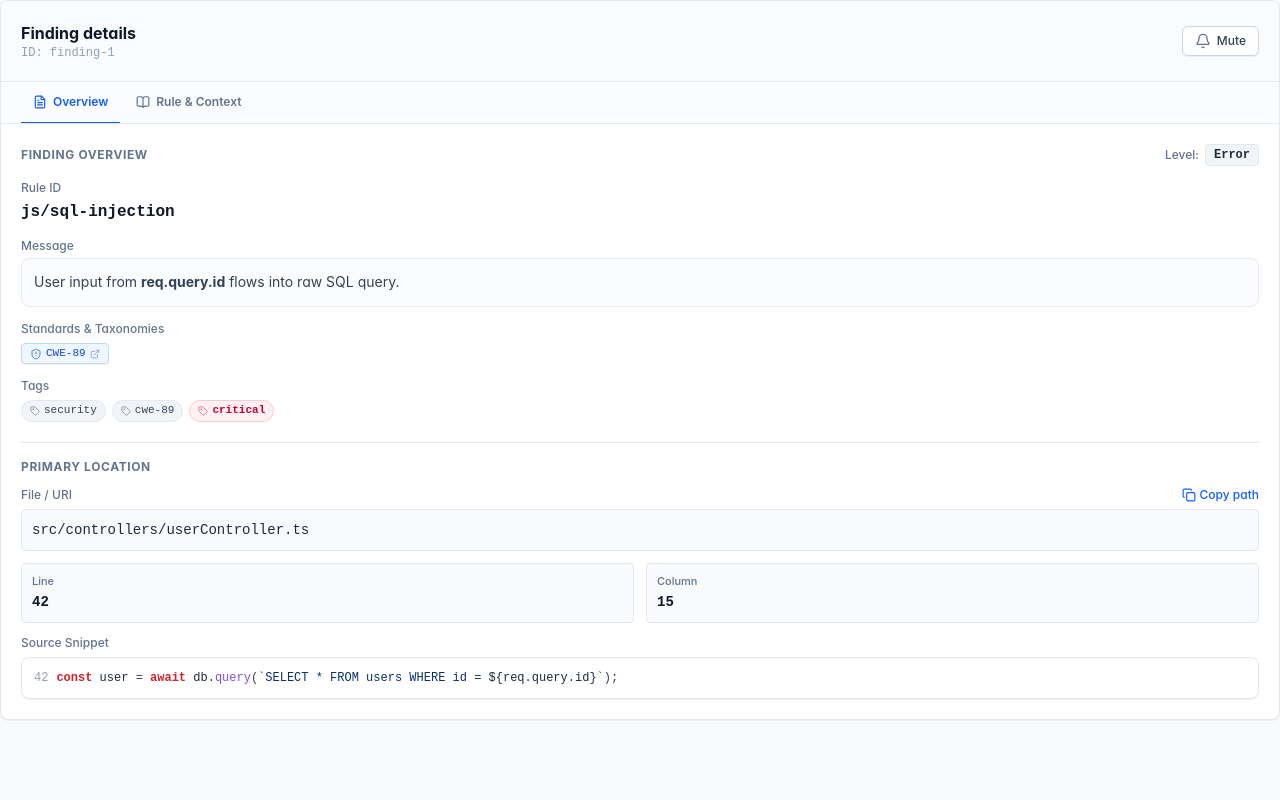
it: DetailsPanel Component › switches to Rule & Context tab on click
Click the button "Rule & Context". click: (189,103)
box: 124,82 -> 253,124
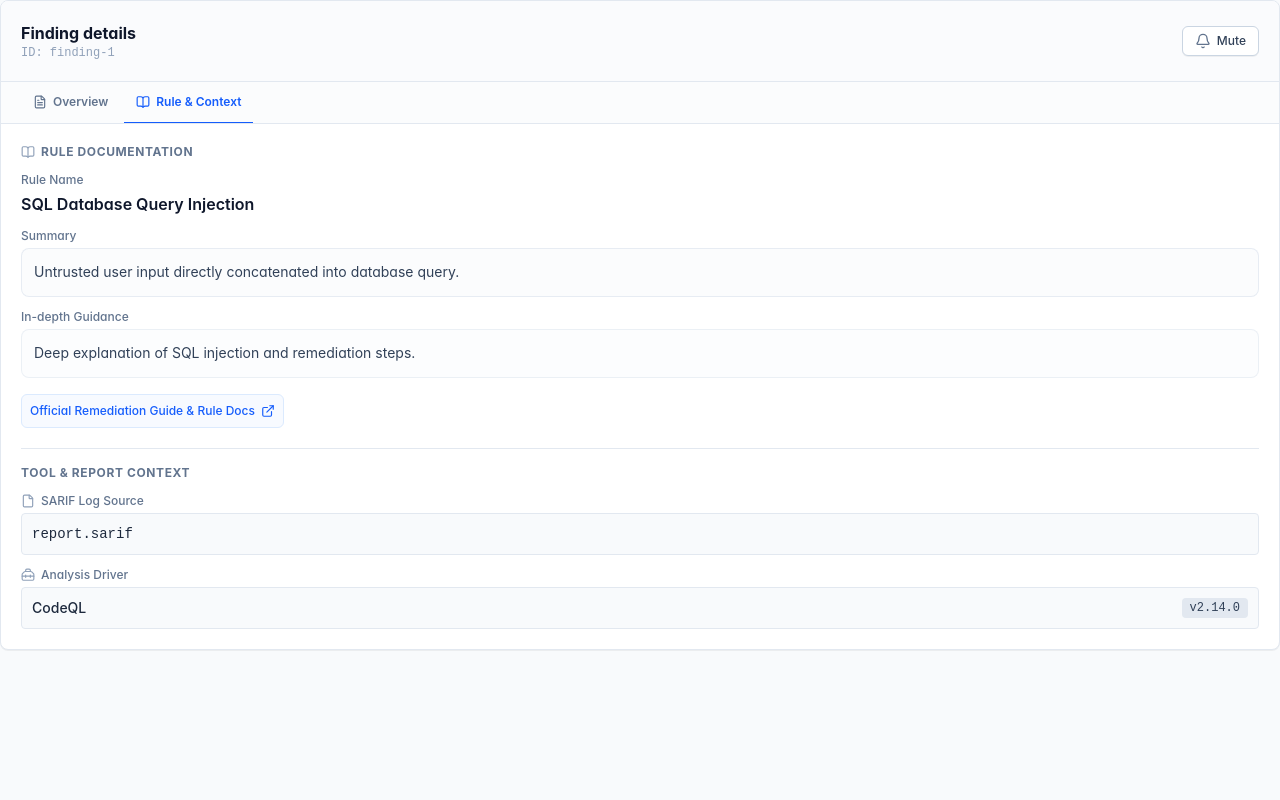
Now the text "Rule Documentation" is shown, box 41,144 -> 193,160
Now the text "SQL Database Query Injection" is shown, box 21,194 -> 254,214
Now the text "SARIF Log Source" is shown, box 41,492 -> 144,508
